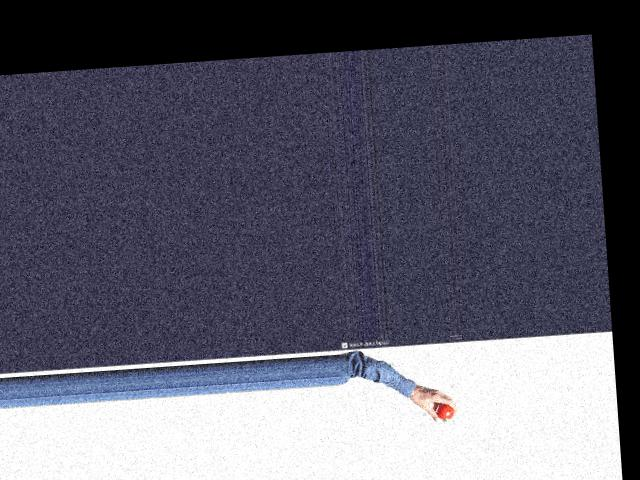tomato: (437, 404, 455, 419)
